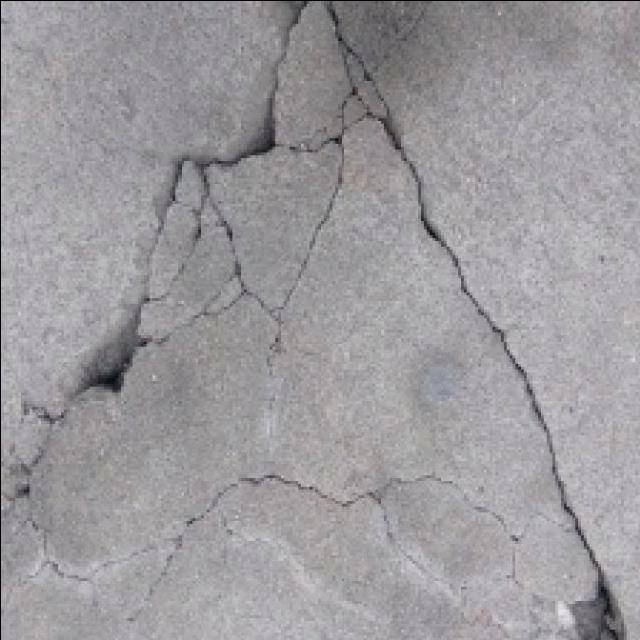SurfaceCrack: (304, 0, 640, 640), (0, 8, 336, 524)
